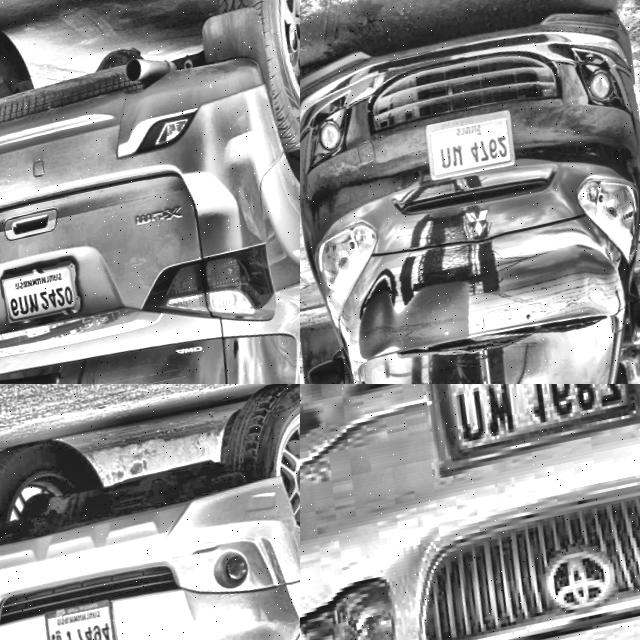license-plate: (401, 384, 640, 479), (421, 104, 526, 182), (0, 251, 95, 330), (43, 593, 130, 640)
